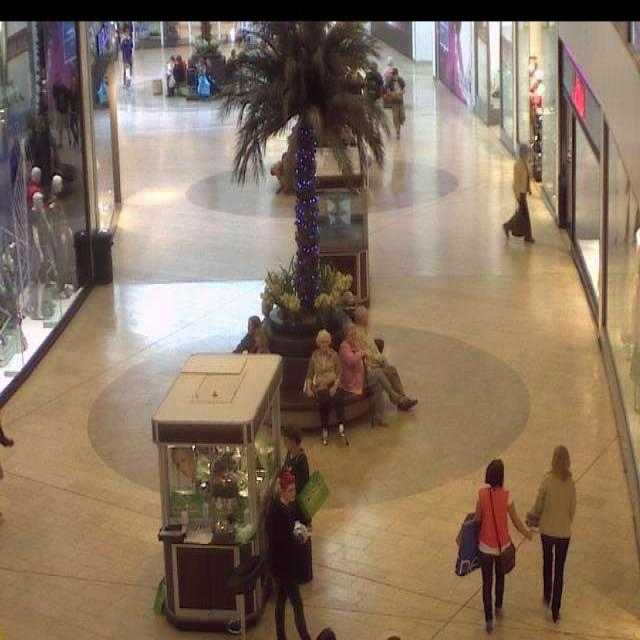gun: (259, 462, 315, 640), (470, 457, 526, 631), (524, 444, 578, 623), (303, 331, 342, 446), (368, 336, 420, 413), (502, 146, 534, 242), (382, 74, 408, 138), (233, 315, 270, 353), (115, 25, 136, 88), (194, 56, 214, 99), (352, 297, 372, 335), (170, 55, 187, 93), (382, 61, 399, 91)
